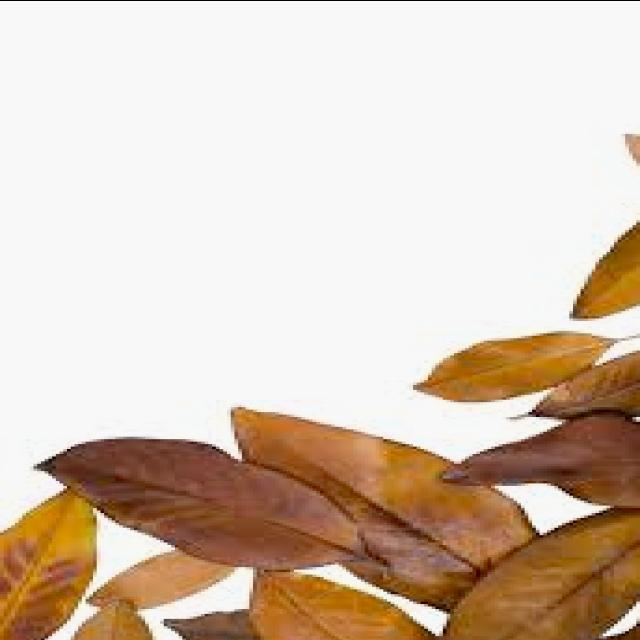leaf: (412, 330, 635, 402)
